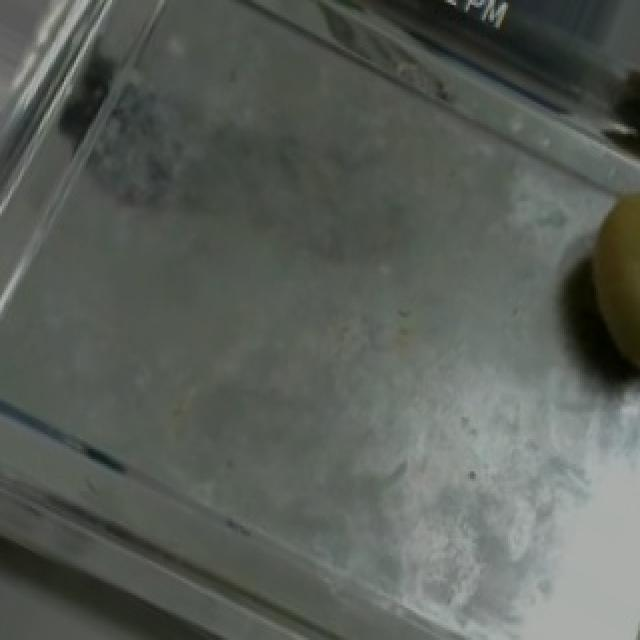Fruit: (542, 162, 640, 410)
